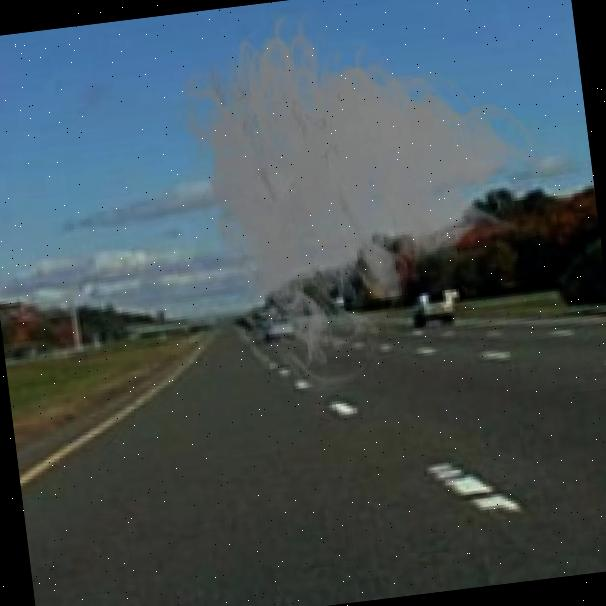smoke: (149, 0, 572, 416)
